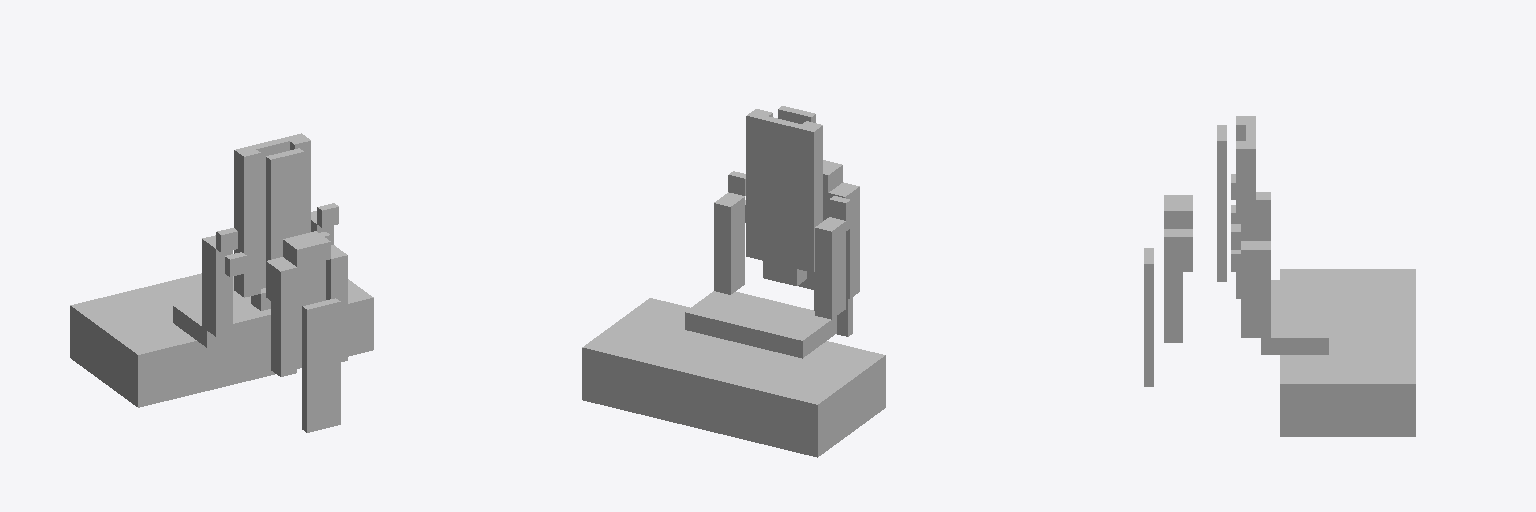
The model's file is airCannon.obj.
3 renders of one model, left to right at view 1: azimuth 30°, elevation 25°; view 2: azimuth 150°, elevation 25°; view 3: azimuth 270°, elevation 25°, orthographic.
Size of the model in its own units: 0.875 by 0.875 by 0.875.